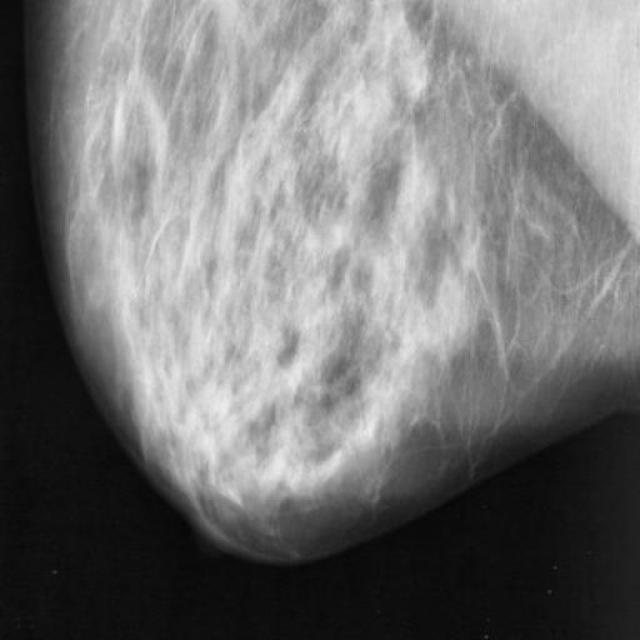cancer: (293, 180, 362, 296)
